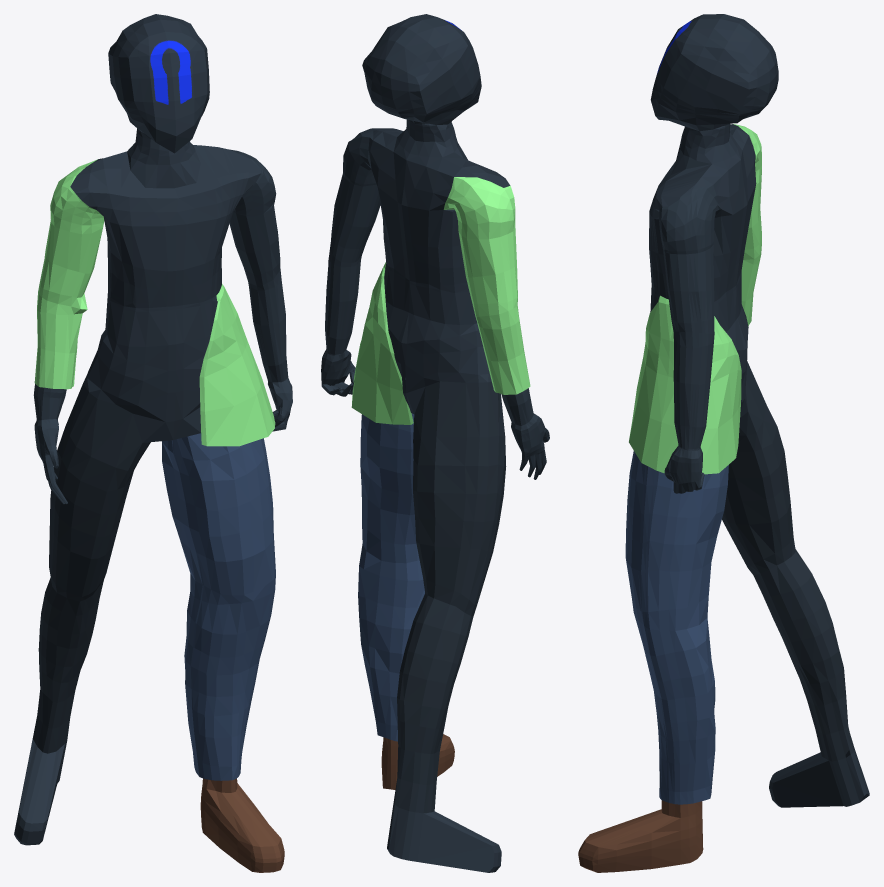
File: Mar_Stun_000020.obj
3 renders of one model, left to right at view 1: azimuth 30°, elevation 25°; view 2: azimuth 150°, elevation 25°; view 3: azimuth 270°, elevation 25°, orthographic. The views are drawn at different scales.
Parts seen in each view (by area): view 1: Cube.000_Cube.001; view 2: Cube.000_Cube.001; view 3: Cube.000_Cube.001.
Part boxes in pixels (x1,y1,x2,y2): Cube.000_Cube.001: (14, 14, 292, 872); Cube.000_Cube.001: (321, 14, 549, 872); Cube.000_Cube.001: (578, 14, 869, 872).
Size of the model in its own units: 1.19 by 3.99 by 1.27.
